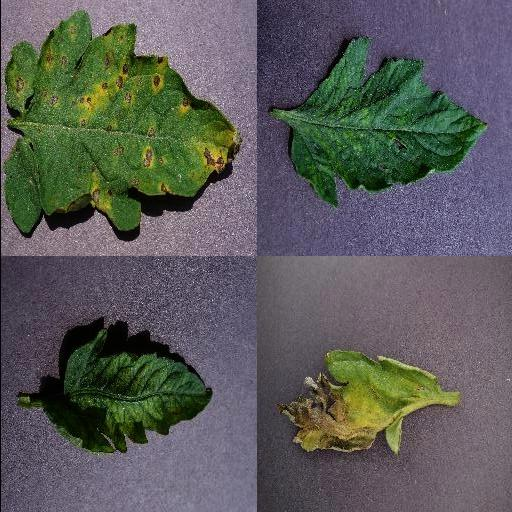Late Blight: (275, 351, 441, 455)
Mosaic Virus: (289, 35, 487, 209), (43, 327, 215, 453)
Septoria: (4, 11, 244, 238)
